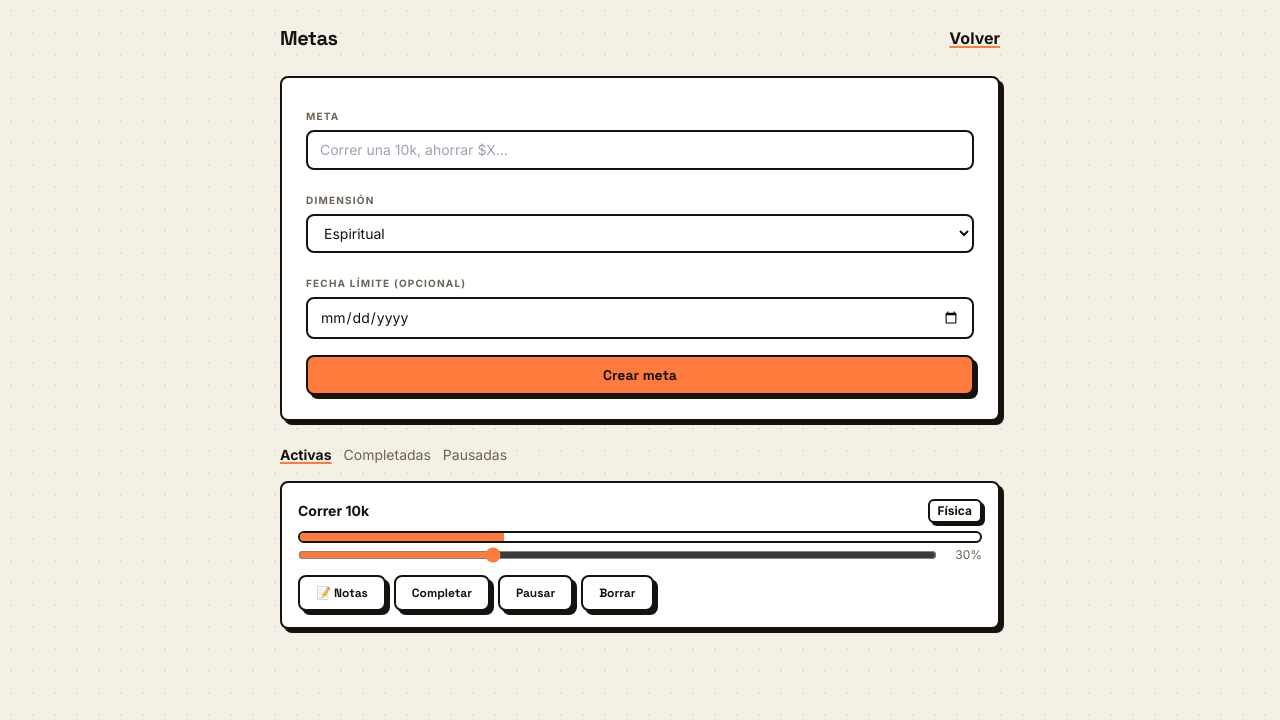
Scenario: MetasPage › abre el modal de notas y lista las notas de la meta
Click the button with aria-label "Notas de Correr 10k": point(342, 593) top-left (298, 575), bottom-right (386, 611)
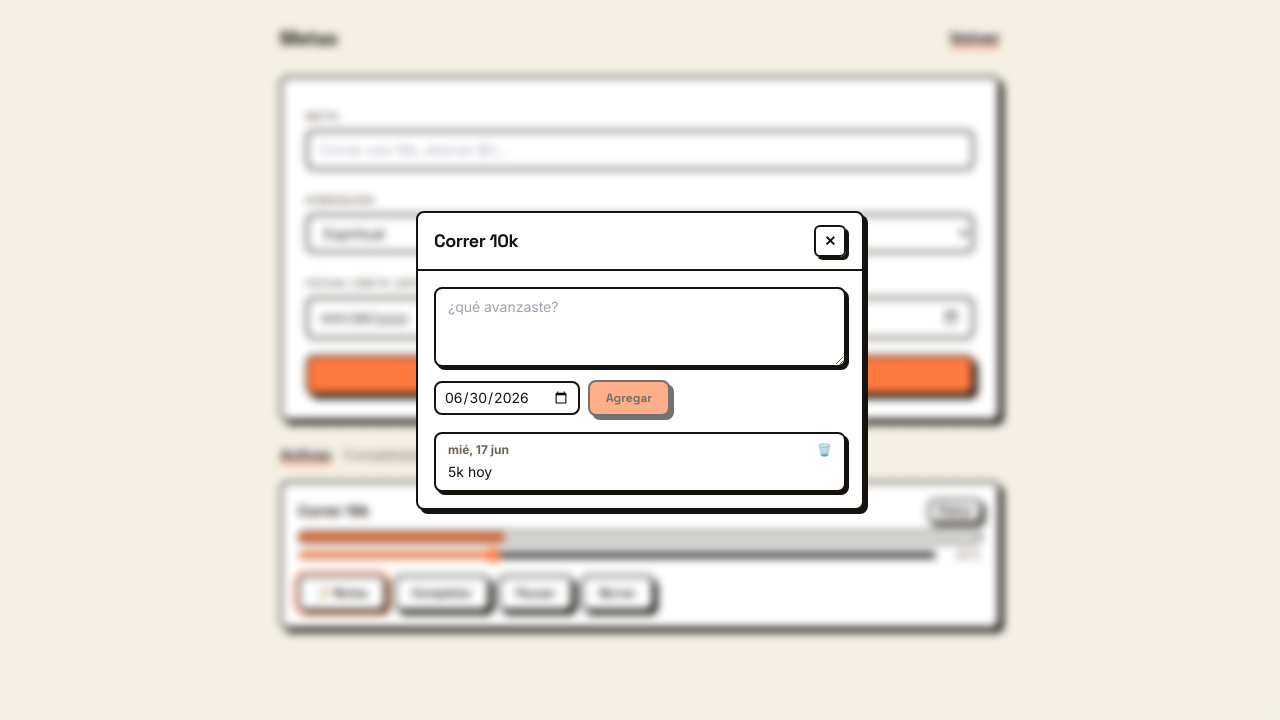
Expected: the text "5k hoy" is shown, top-left (448, 462), bottom-right (492, 480)
